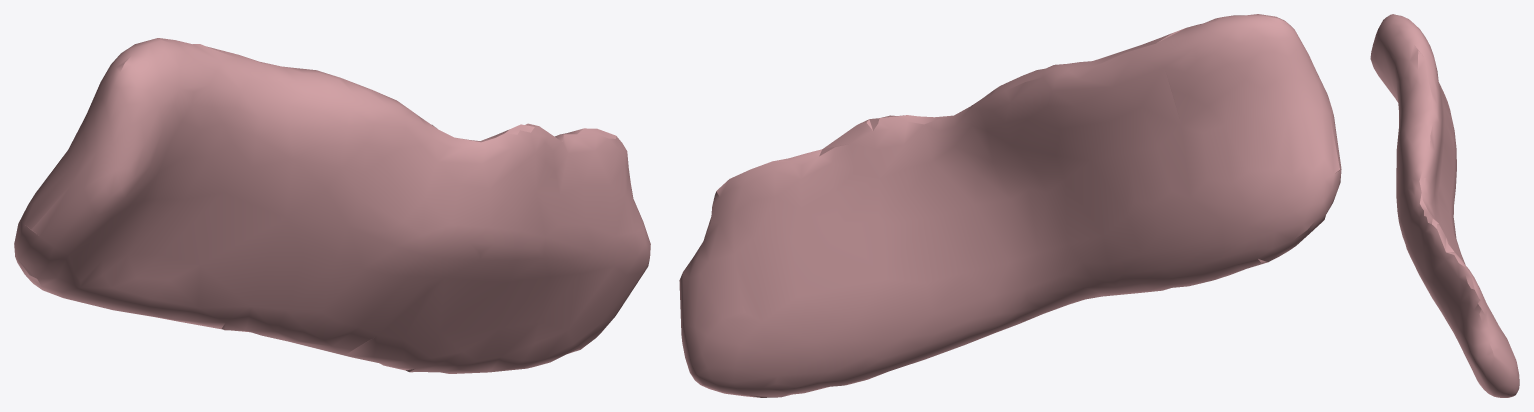
File: fma275540_mm3839m.glb
3 views of the same model, side by side, from view 1: azimuth 30°, elevation 25°; view 2: azimuth 150°, elevation 25°; view 3: azimuth 270°, elevation 25° (orthographic). The views are drawn at different scales.
Visible parts, largest first — view 1: FMA275540_MM3839M; view 2: FMA275540_MM3839M; view 3: FMA275540_MM3839M.
Part boxes in pixels (x1,y1,x2,y2): FMA275540_MM3839M: (14,38,650,373); FMA275540_MM3839M: (679,14,1341,397); FMA275540_MM3839M: (1370,14,1519,397).
Bounding box in the file's own units: 0.0216 × 0.0148 × 0.00798.
